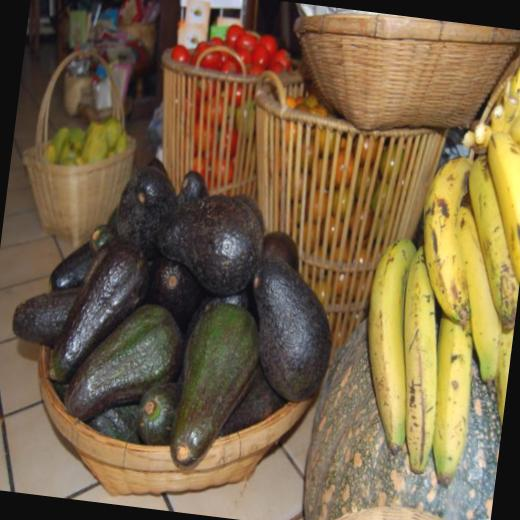Banana: (349, 41, 520, 486), (350, 228, 432, 458), (350, 234, 431, 460)
